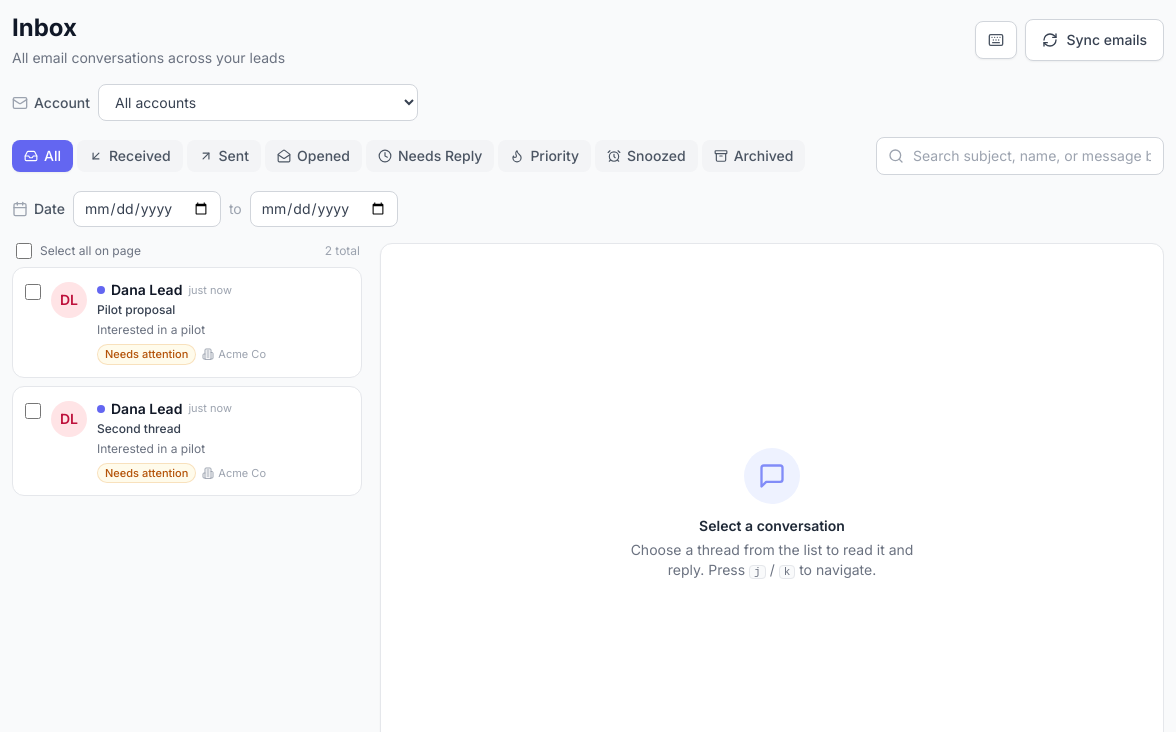
Test: Inbox draft autosave › restores an unsent draft after switching threads and back
The image size is (1176, 732).
# Open thread 1 and drop a draft into it via the AI-draft path.
What coordinates should you click on to do the following:
click the button "Pilot proposal"
I would click on:
 (189, 322)
Its box is [97, 280, 281, 364].
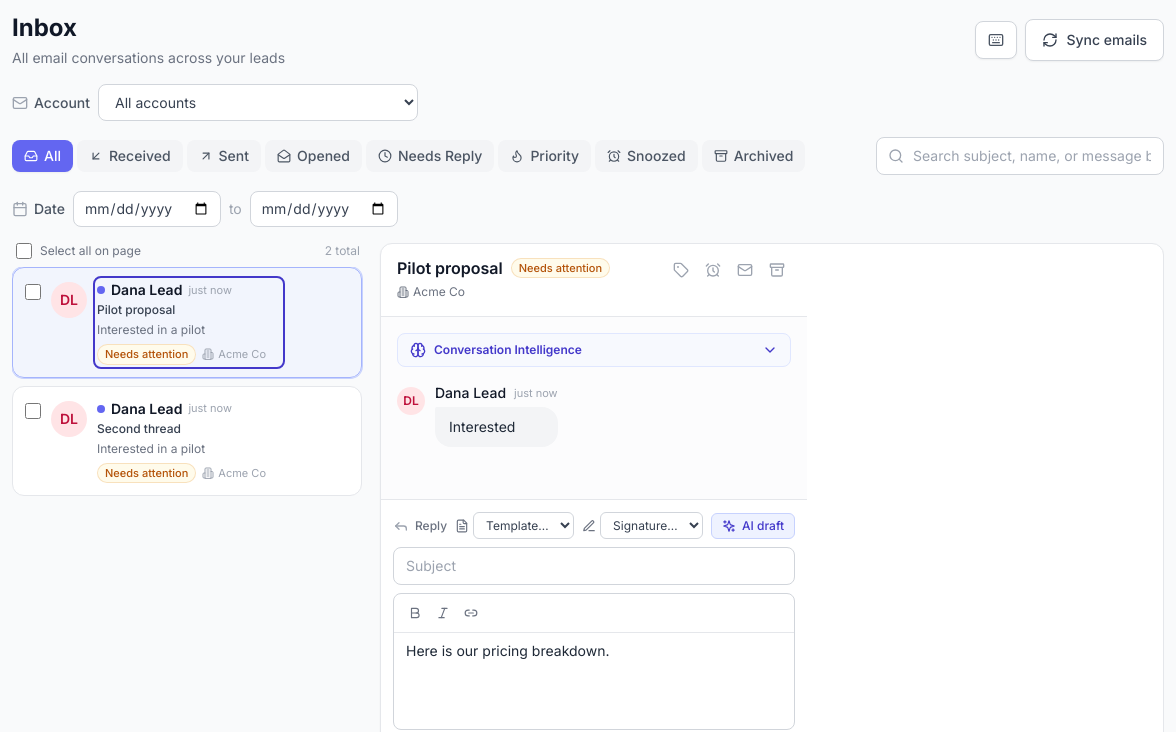
What coordinates should you click on to do the following:
click the button "AI draft"
I would click on:
 (753, 526)
Its box is [711, 512, 795, 538].
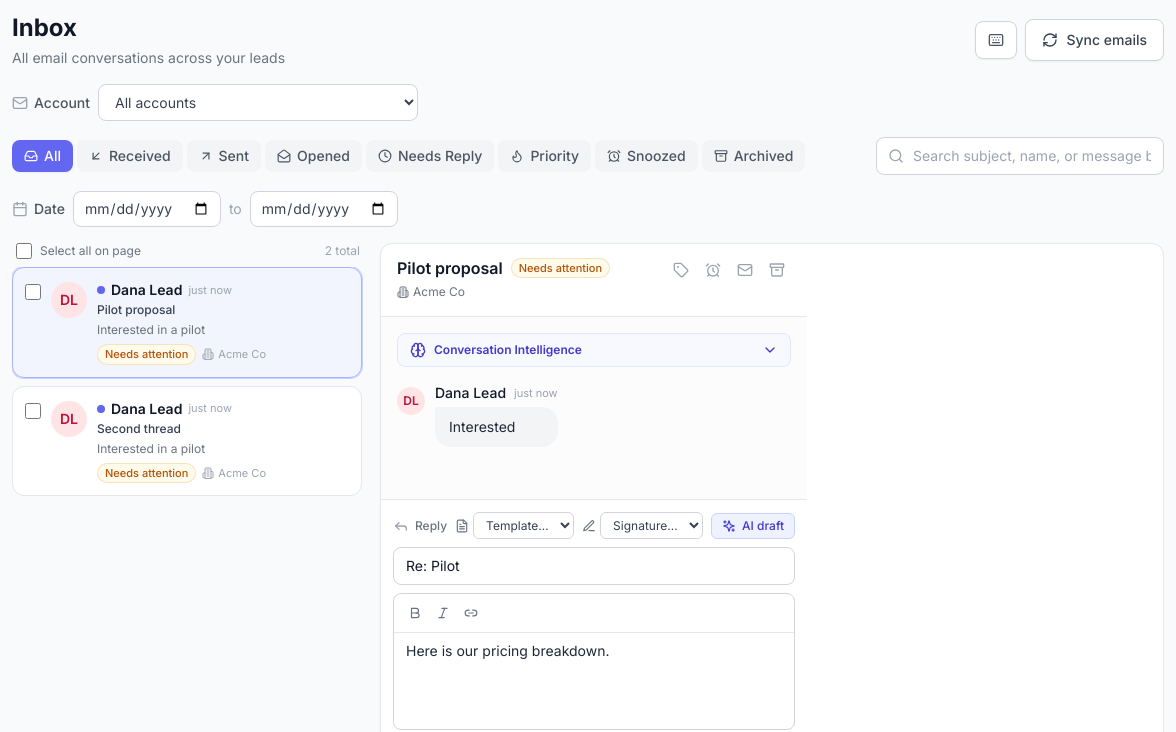
Check: the field named "Reply body" shows "pricing breakdown", box [406, 642, 610, 659]
# Switch to thread 2 — its composer is a clean slate.
What coordinates should you click on to do the following:
click the button "Second thread"
I would click on:
 (189, 441)
Its box is [97, 398, 281, 483].
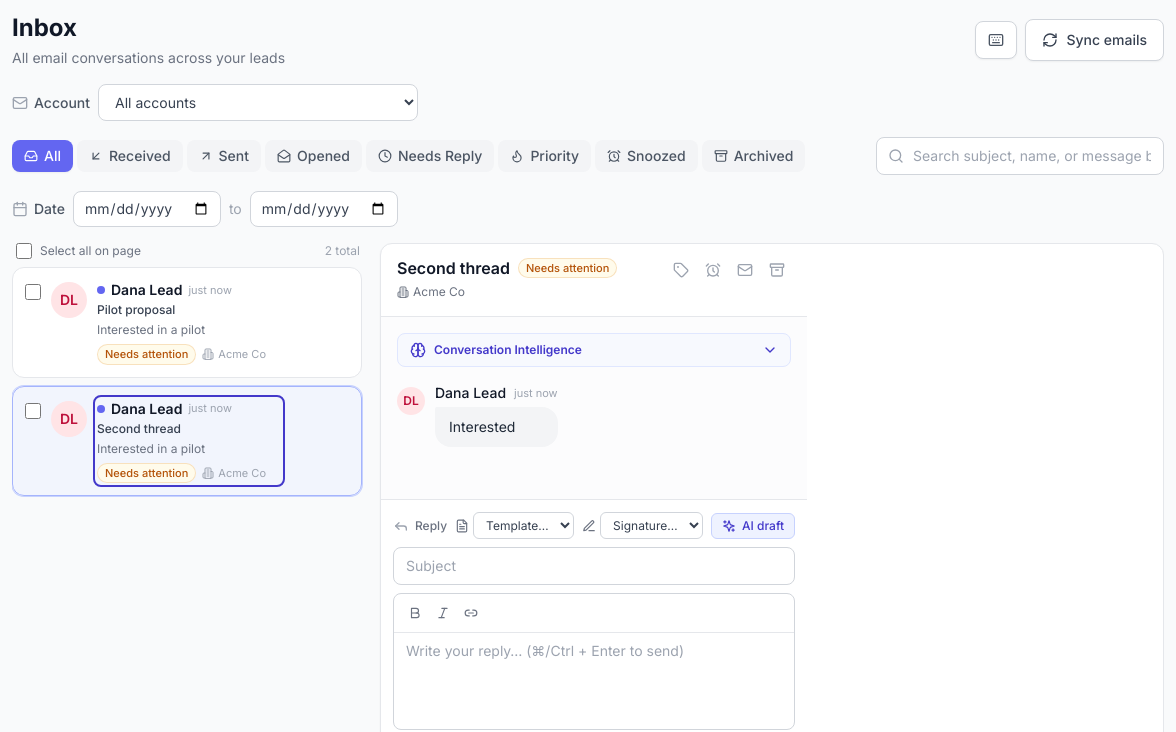
Check: the field labelled "Reply body" no longer shows "pricing breakdown"
# Back to thread 1 — the draft is still there.
What coordinates should you click on to do the following:
click the button "Pilot proposal"
I would click on:
 (189, 322)
Its box is [97, 280, 281, 364].
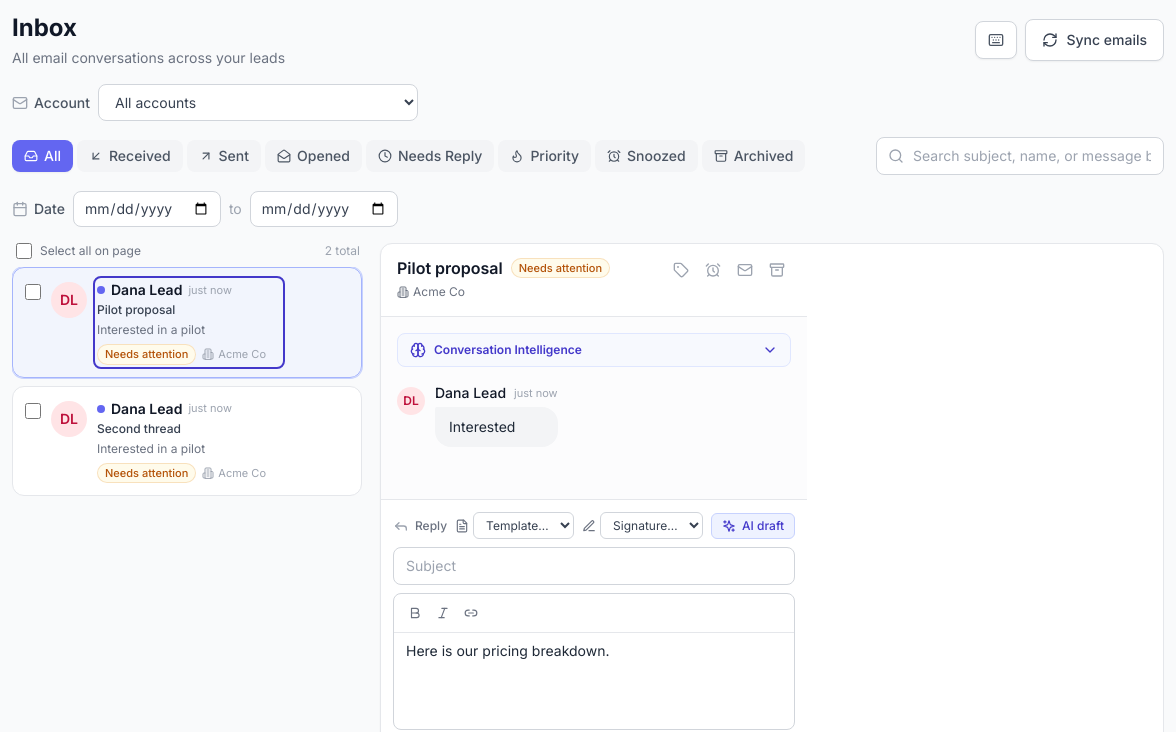
Check: the field named "Reply body" shows "pricing breakdown", box [406, 642, 610, 659]
